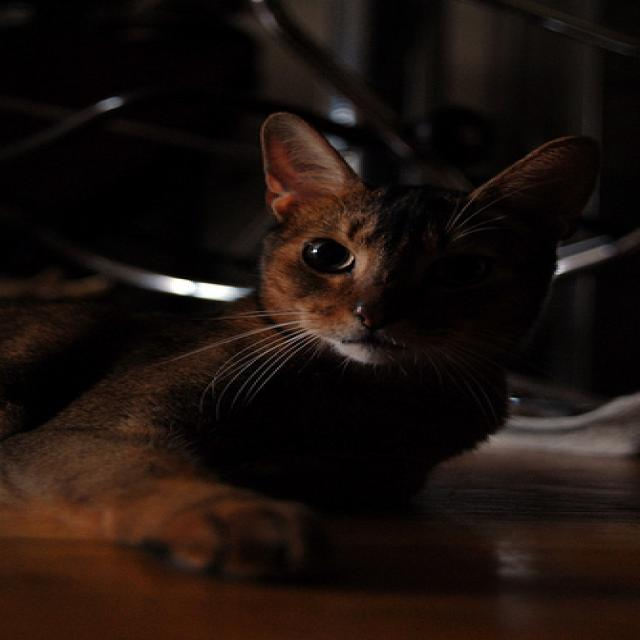cat: (256, 110, 598, 364)
